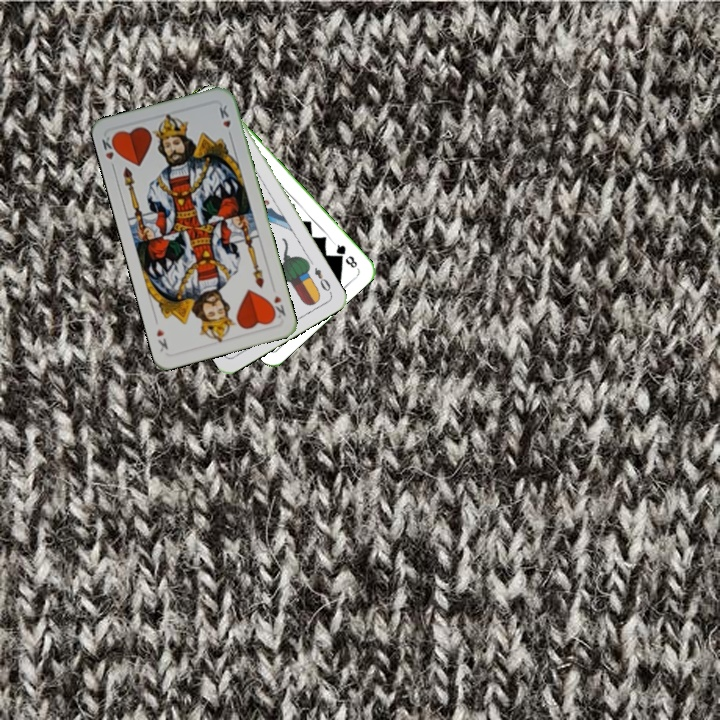EO: (310, 264, 334, 296)
G8: (329, 238, 360, 271)
HK: (98, 132, 121, 162), (266, 291, 288, 321)
